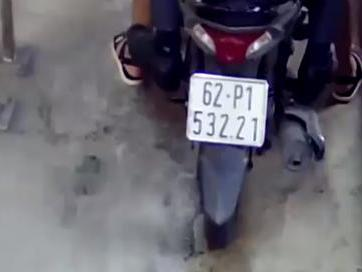num_plate: (186, 72, 268, 146)
